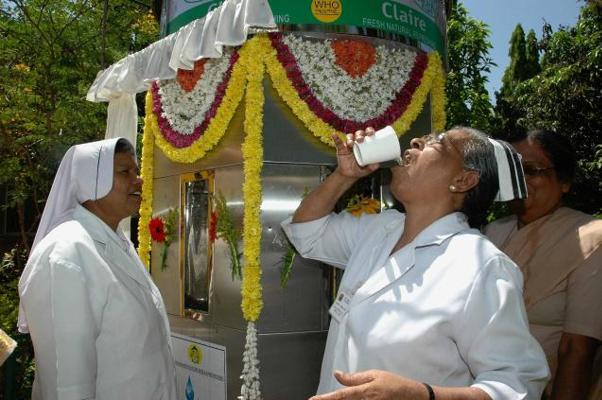person: (286, 126, 551, 400)
